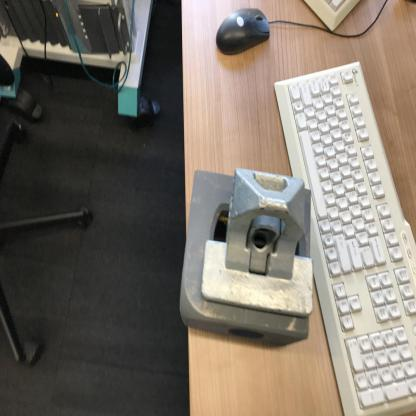CornerCasting: (182, 170, 237, 333)
Twistlock: (198, 161, 317, 322)
